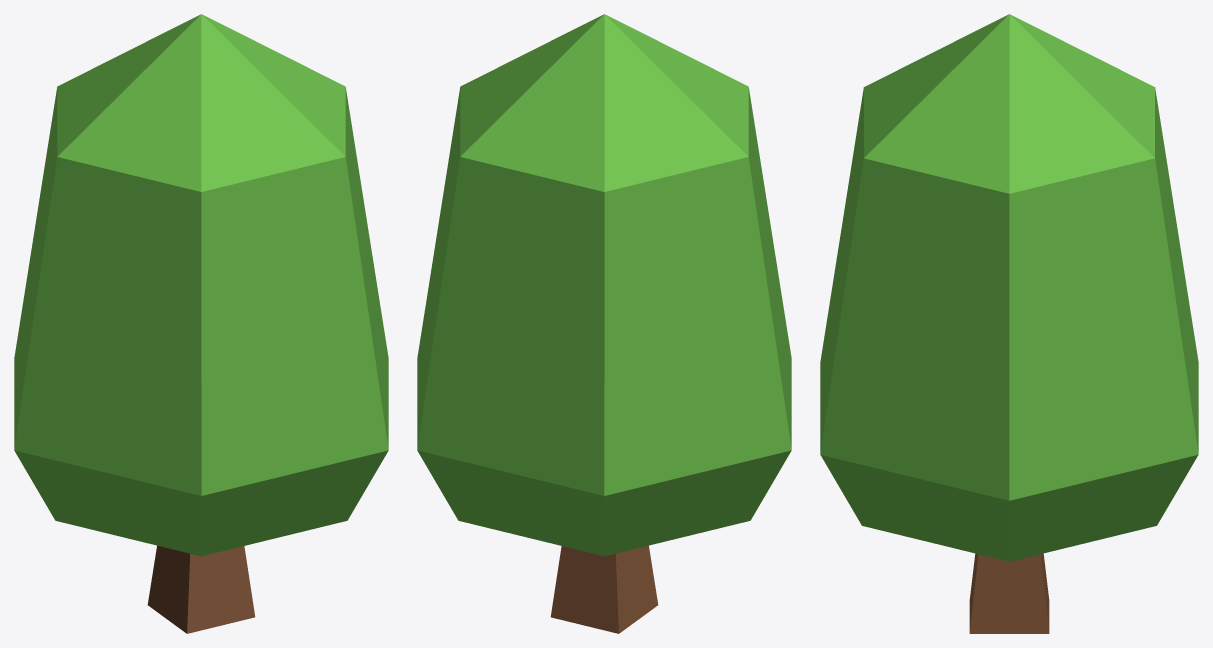
The model's file is tree_fat.glb.
3 renders of one model, left to right at view 1: azimuth 30°, elevation 25°; view 2: azimuth 150°, elevation 25°; view 3: azimuth 270°, elevation 25°, orthographic.
Visible parts, largest first — view 1: tree_fat; view 2: tree_fat; view 3: tree_fat.
Part boxes in pixels (box(x1,y1,x2,y2)): tree_fat: box(14, 14, 388, 633); tree_fat: box(417, 14, 791, 633); tree_fat: box(820, 14, 1198, 633).
Bounding box in the file's own units: 0.755 × 1.15 × 0.6539.
